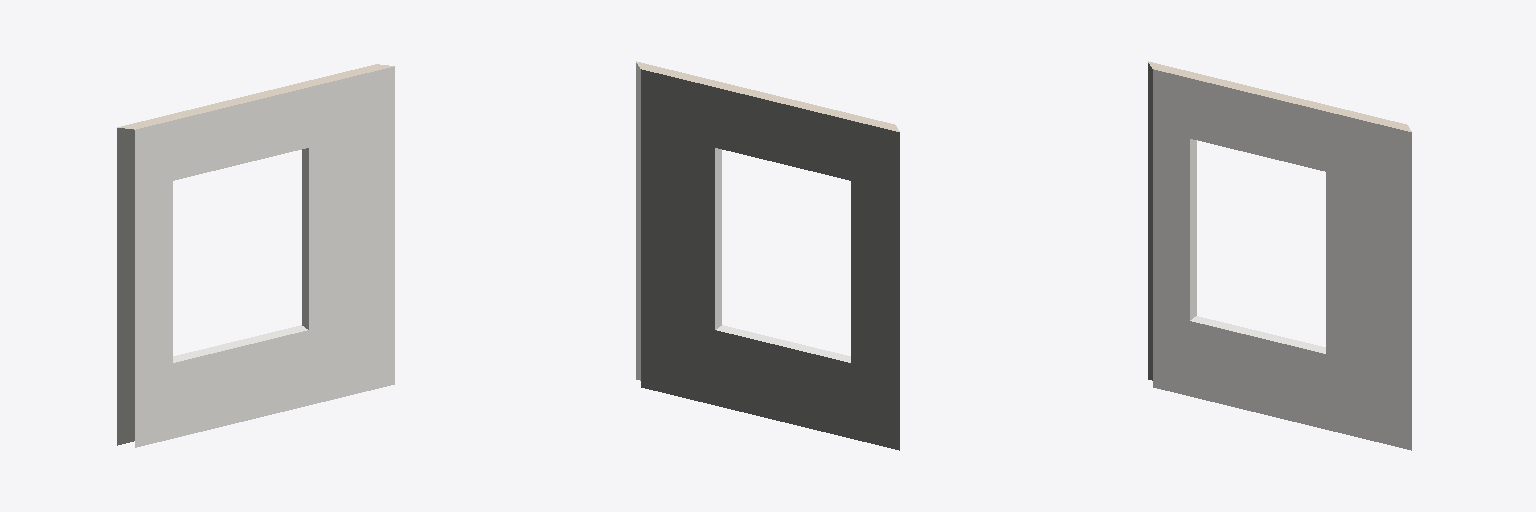
Rendered from Wall4.obj.
3 views of the same model, side by side, from view 1: azimuth 30°, elevation 25°; view 2: azimuth 150°, elevation 25°; view 3: azimuth 330°, elevation 25° (orthographic).
Visible parts, largest first — view 1: wall_4; view 2: wall_4; view 3: wall_4.
Part boxes in pixels (x1,y1,x2,y2): wall_4: (117, 64, 394, 447); wall_4: (636, 61, 899, 450); wall_4: (1148, 61, 1411, 450).
Size of the model in its own units: 2.29 by 2.57 by 0.1.